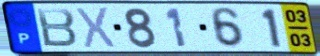1: (165, 7, 190, 49), (260, 6, 283, 49)
6: (209, 6, 246, 50)
8: (122, 6, 158, 50)
B: (34, 7, 80, 49)
X: (74, 6, 118, 50)
